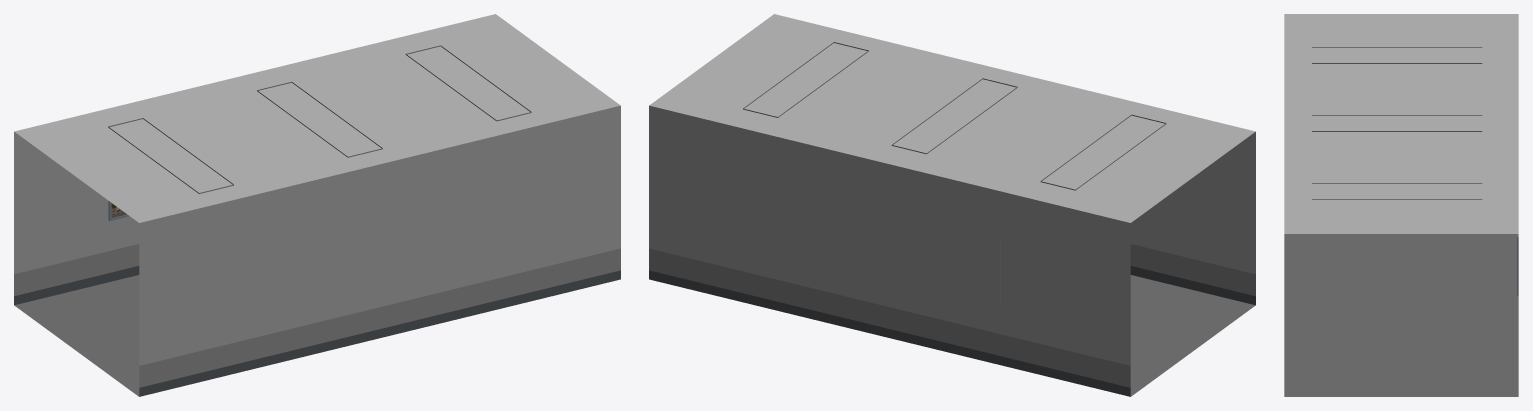
The model's file is SM_Floor_Metro_02.fbx.
The picture shows the model from 3 angles, left to right: view 1: azimuth 30°, elevation 25°; view 2: azimuth 150°, elevation 25°; view 3: azimuth 270°, elevation 25°; orthographic projection. The views are drawn at different scales.
Visible parts, largest first — view 1: SM_Floor_Metro_02; view 2: SM_Floor_Metro_02; view 3: SM_Floor_Metro_02.
Part boxes in pixels (bbox=[...]): SM_Floor_Metro_02: bbox=[14, 14, 620, 396]; SM_Floor_Metro_02: bbox=[649, 14, 1255, 396]; SM_Floor_Metro_02: bbox=[1284, 14, 1518, 396].
Size of the model in its own units: 10 by 3.47 by 4.5.
